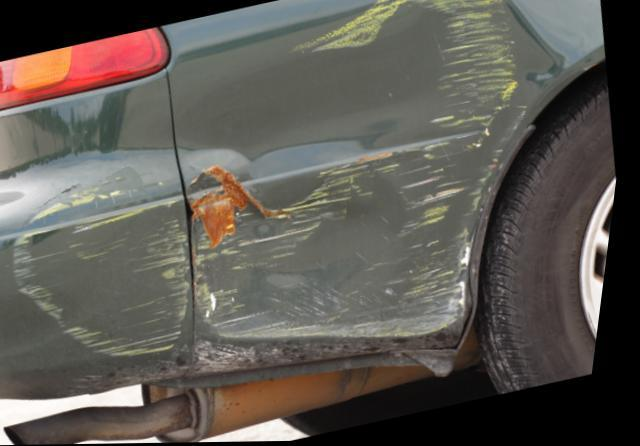scratch: (192, 0, 532, 344), (14, 166, 205, 360)
